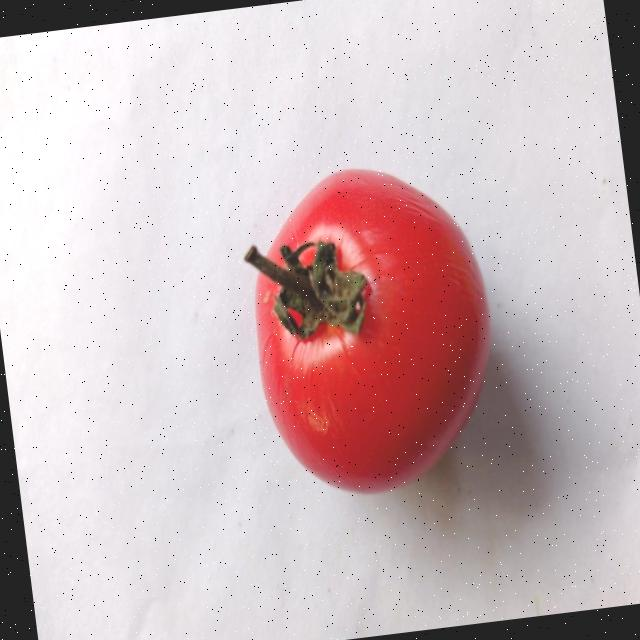Ripe: (228, 147, 513, 508)
